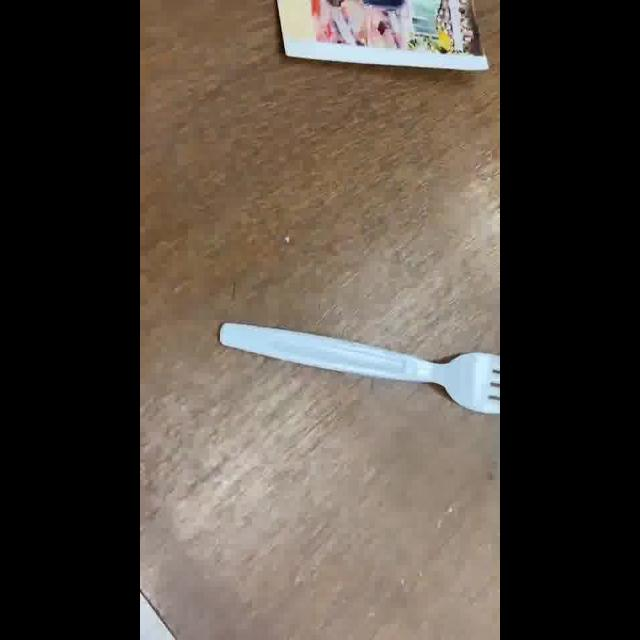plastic_cultery: (218, 321, 500, 413)
